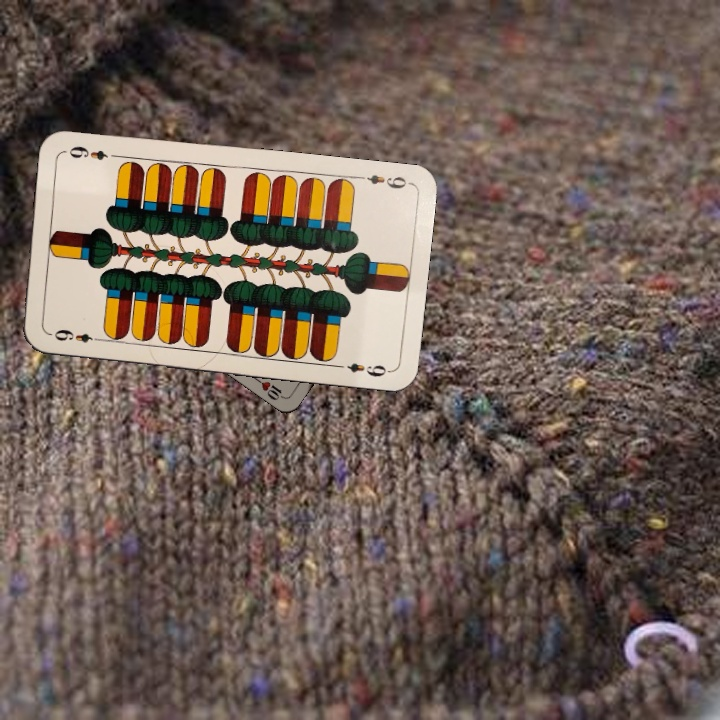E9: (353, 170, 412, 192), (45, 325, 104, 345)
